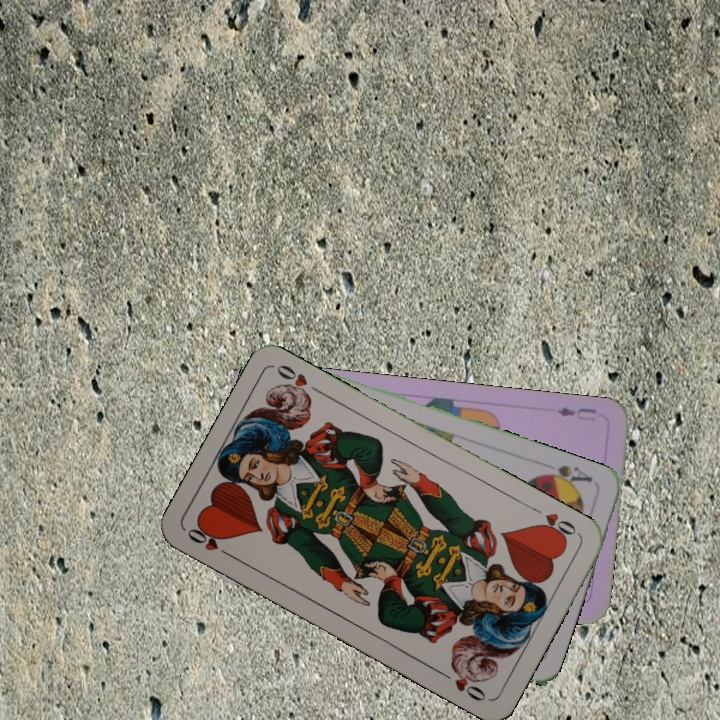EU: (553, 403, 599, 424)
HO: (527, 502, 579, 543), (183, 522, 237, 561)
SA: (537, 461, 596, 492)
